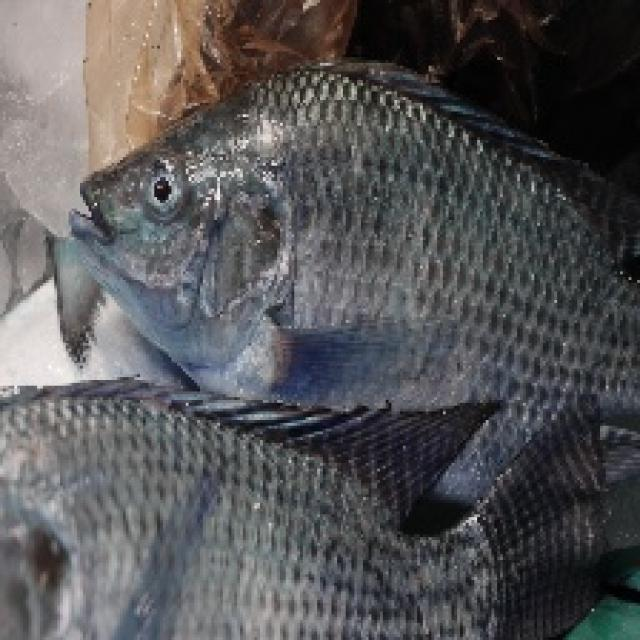Fresh: (55, 65, 640, 449)
